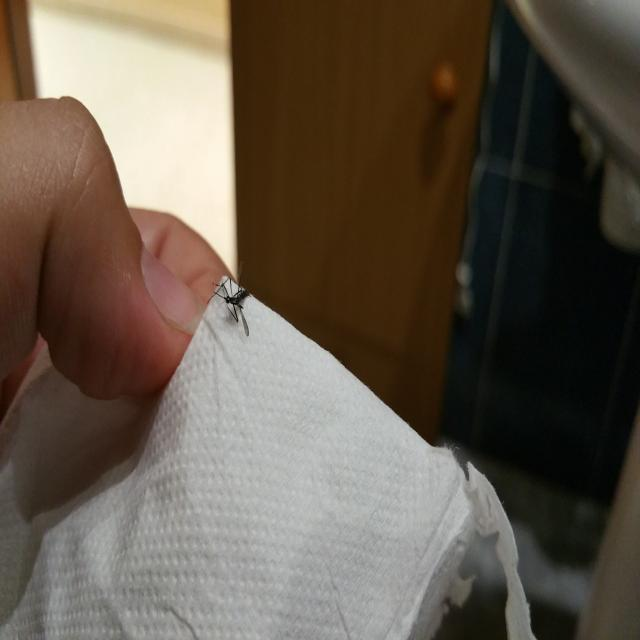albopictus: (210, 250, 254, 340)
